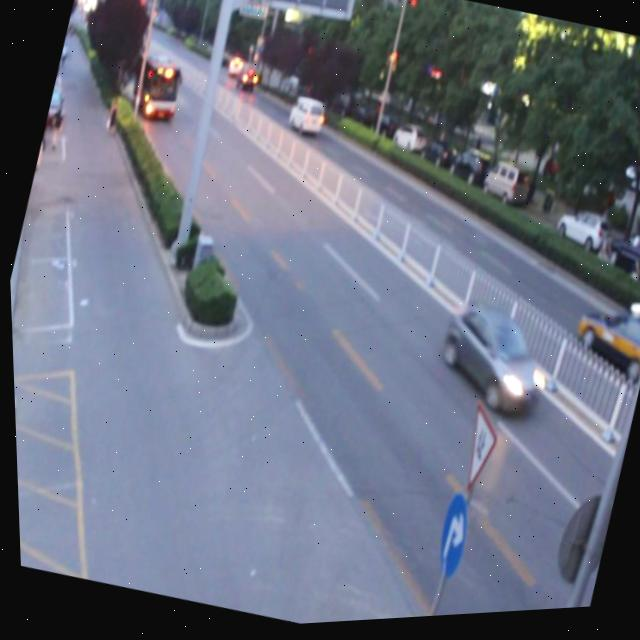car: (426, 297, 559, 430), (561, 292, 640, 396)
truck: (283, 93, 327, 140)
van: (124, 48, 188, 126)
